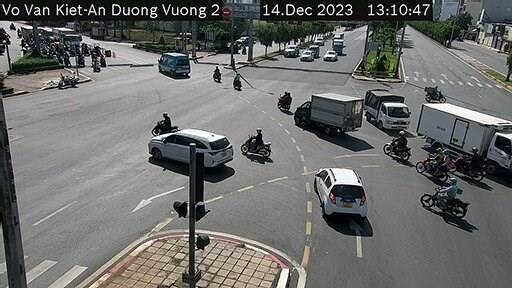car: (133, 117, 238, 174), (306, 167, 371, 221), (154, 50, 189, 87), (285, 43, 297, 58), (326, 52, 339, 65), (301, 50, 315, 61)
motorbike: (425, 180, 467, 217), (418, 146, 453, 181), (240, 126, 273, 163), (386, 132, 412, 164), (151, 110, 182, 132), (425, 81, 442, 104), (277, 89, 292, 112), (229, 72, 240, 91)
truck: (420, 96, 511, 174), (294, 88, 359, 136), (360, 85, 410, 133)
